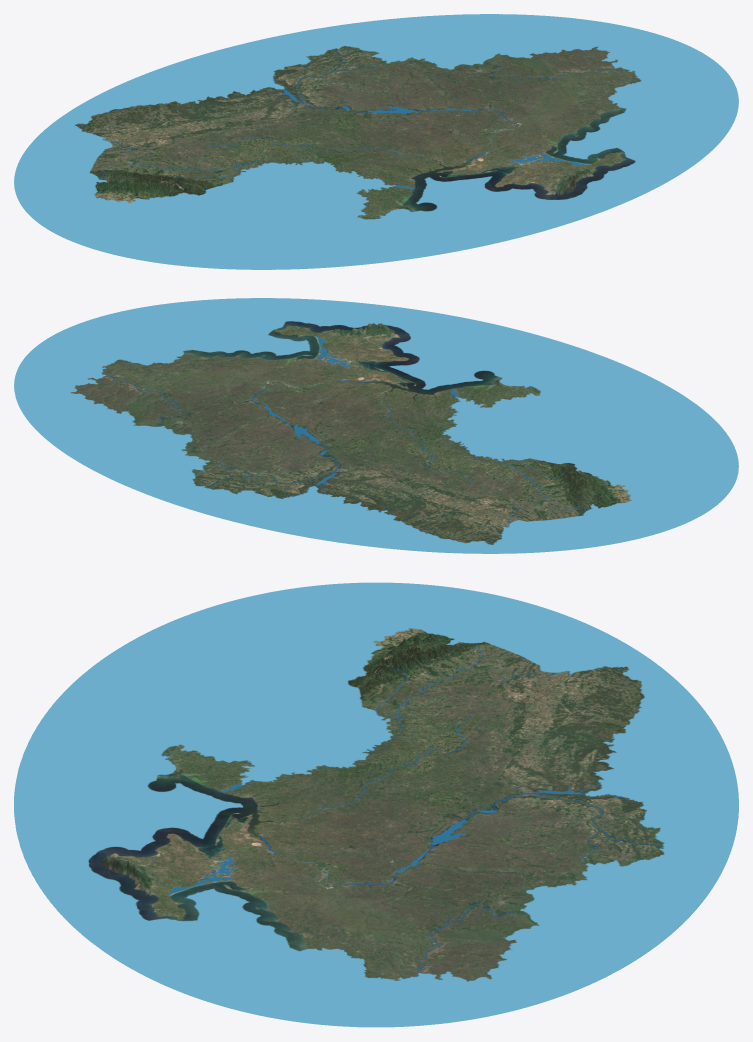
File: UKR-previa-terrain.glb
3 renders of one model, top to bottom at view 1: azimuth 30°, elevation 25°; view 2: azimuth 150°, elevation 25°; view 3: azimuth 270°, elevation 25°, orthographic. The views are drawn at different scales.
Parts seen in each view (by area): view 1: Ucrânia; view 2: Ucrânia; view 3: Ucrânia.
Part boxes in pixels (<box>): Ucrânia: <box>14,14,738,269</box>; Ucrânia: <box>14,298,738,553</box>; Ucrânia: <box>14,582,738,1027</box>.
Bounding box in the file's own units: 2.18 × 0.0344 × 1.5.
1 material, 1 textured.
